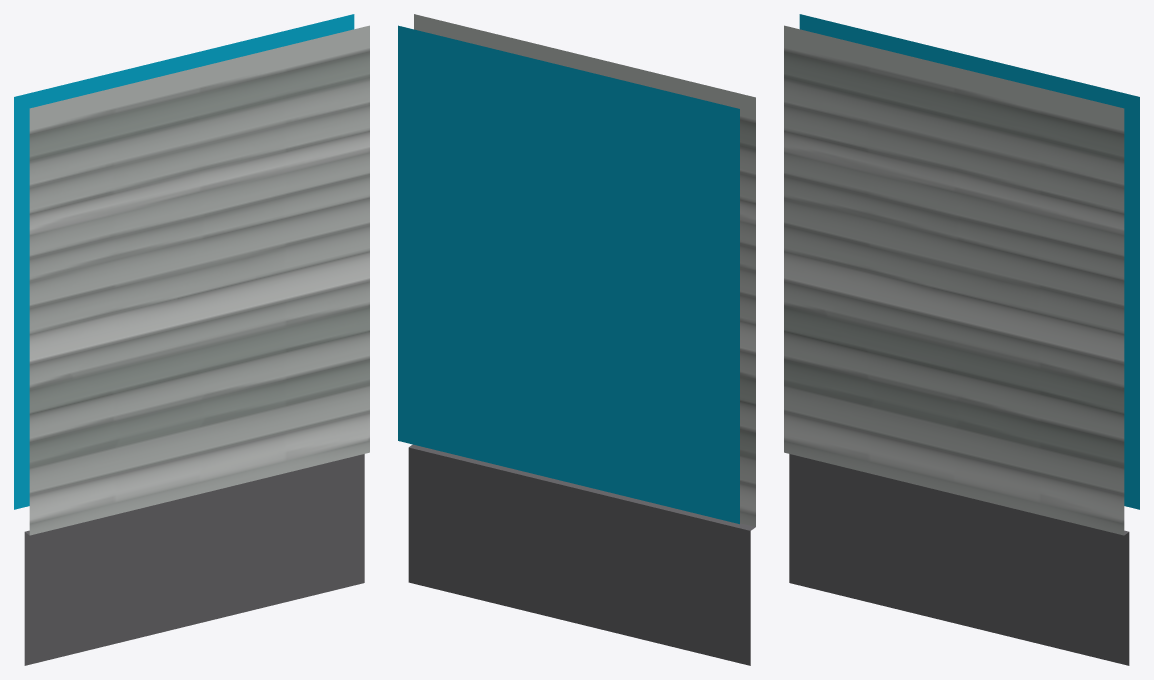
The model's file is SM_Bld_House_ExteriorWall_GroundFloor_03.fbx.
3 views of the same model, side by side, from view 1: azimuth 30°, elevation 25°; view 2: azimuth 150°, elevation 25°; view 3: azimuth 330°, elevation 25° (orthographic).
Parts seen in each view (by area): view 1: SM_Bld_House_ExteriorWall_GroundFloor_03; view 2: SM_Bld_House_ExteriorWall_GroundFloor_03; view 3: SM_Bld_House_ExteriorWall_GroundFloor_03.
Boxes of the visible parts, x1,y1,x2,y2 form: SM_Bld_House_ExteriorWall_GroundFloor_03: [14, 14, 369, 665]; SM_Bld_House_ExteriorWall_GroundFloor_03: [398, 14, 755, 665]; SM_Bld_House_ExteriorWall_GroundFloor_03: [784, 14, 1139, 665].
Bounding box in the file's own units: 250 × 394 × 20.
